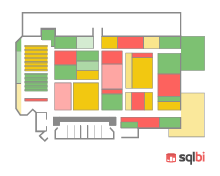

This screenshot's page, from the dashboard's own definition file:
{"tool":"powerbi","page":{"name":"Page 1","canvas":[960,720],"ordinal":0},"visuals":[{"type":"Timeline1444442438073","fields":{"Time":["Date.Date"]},"box":[259.6,610.7,431.4,83],"z":0},{"type":"SynopticPanelBySQLBI1444995042753","fields":{"Category":["Product Category.Category"],"Series":["Product Subcategory.Subcategory"],"Y":["Sales.Margin %"],"Saturation":["Sales.Margin %"]},"box":[107.1,46.7,672.7,534.4],"z":1}]}

Visuals, with their boxes in screenshot pixels (x1, y1, x2, y2):
Timeline1444442438073 - Date.Date: [left=59, top=144, right=160, bottom=164]
SynopticPanelBySQLBI1444995042753 - Product Category.Category x Product Subcategory.Subcategory: [left=23, top=12, right=180, bottom=137]
